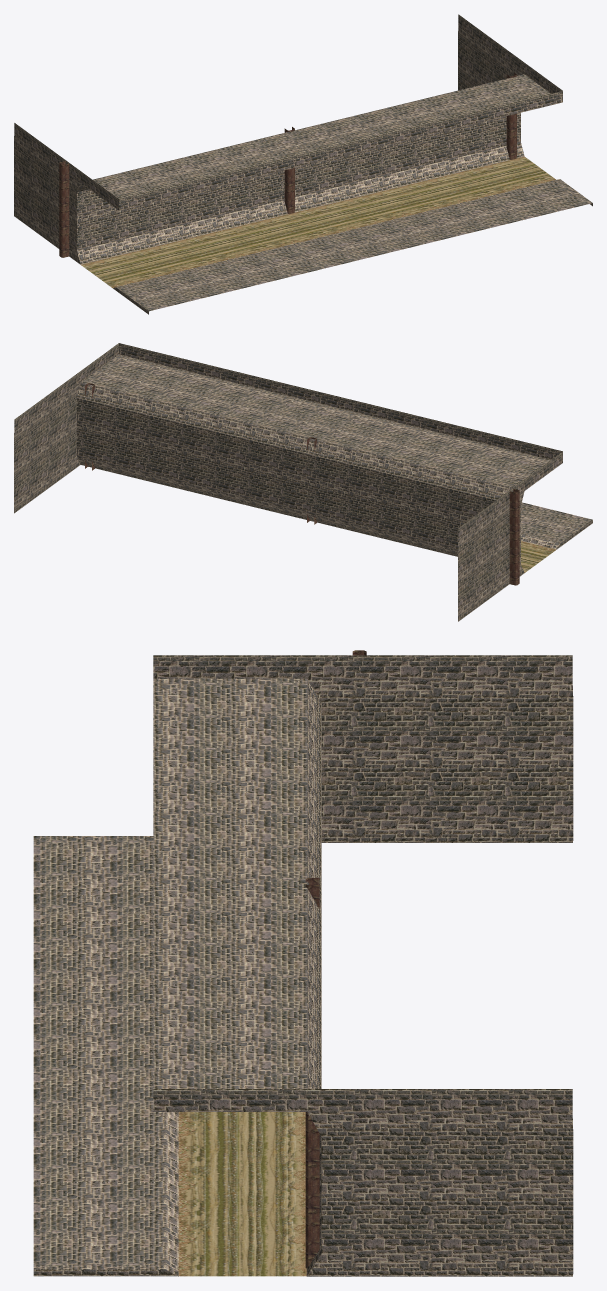
Rendered from terr_1tunnel_normal.FBX.
3 renders of one model, top to bottom at view 1: azimuth 30°, elevation 25°; view 2: azimuth 150°, elevation 25°; view 3: azimuth 270°, elevation 25°, orthographic. The views are drawn at different scales.
Visible parts, largest first — view 1: Box02, road01, Box05, Box04, Box03; view 2: Box02, Box05, road01; view 3: Box02, road01, Box04.
Boxes of the visible parts, left/top/right/bottom form: Box02: left=14, top=14, right=592, bottom=314; road01: left=81, top=156, right=555, bottom=288; Box05: left=59, top=161, right=69, bottom=257; Box04: left=506, top=72, right=516, bottom=159; Box03: left=284, top=127, right=294, bottom=214; Box02: left=14, top=343, right=592, bottom=621; Box05: left=509, top=488, right=519, bottom=585; road01: left=521, top=541, right=556, bottom=572; Box02: left=33, top=655, right=573, bottom=1276; road01: left=178, top=1112, right=306, bottom=1276; Box04: left=305, top=1112, right=319, bottom=1268.
Bounding box in the file's own units: 203 × 40.4 × 105.
